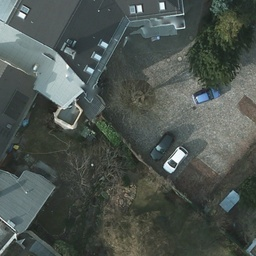car: (149, 131, 175, 160), (164, 147, 188, 175), (193, 83, 222, 104)
